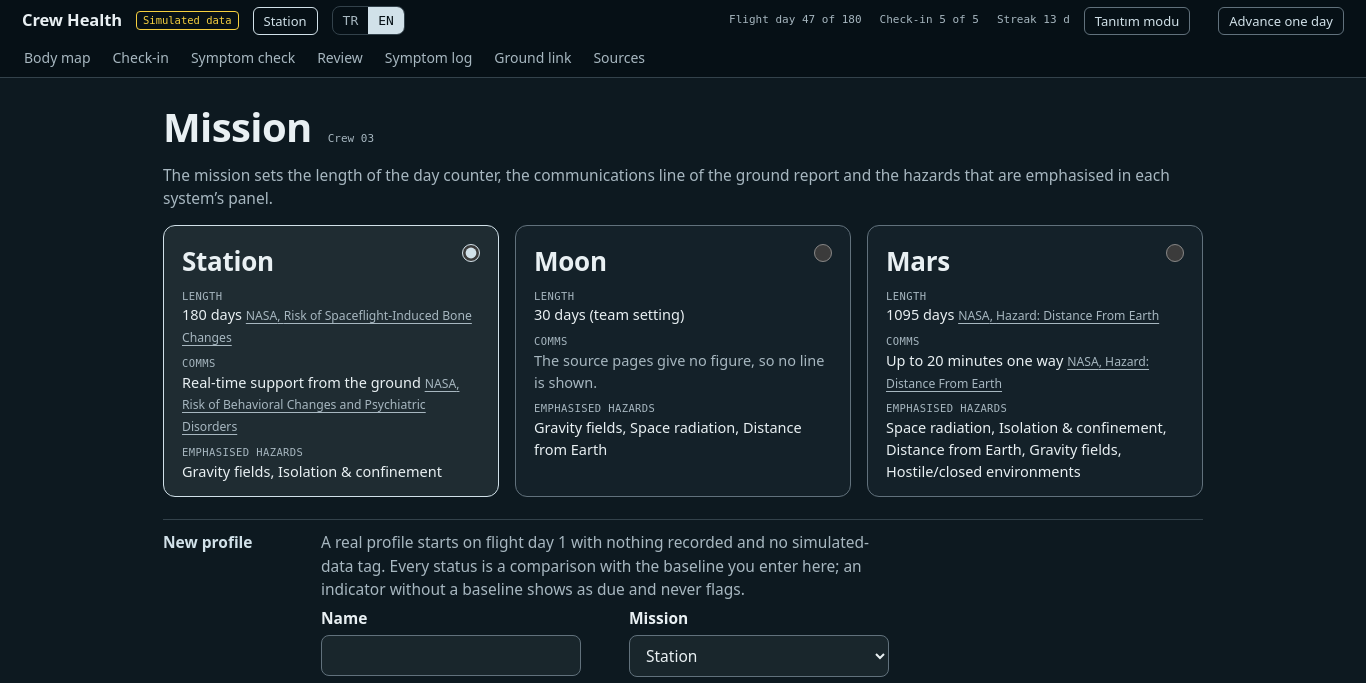
Test: a new profile › starts on day 1 with its baselines and without the simulated tag
Type "Ada" into the field labelled "Name" at (451, 656), box x1=321 y1=635 x2=581 y2=676
(page scrolled)
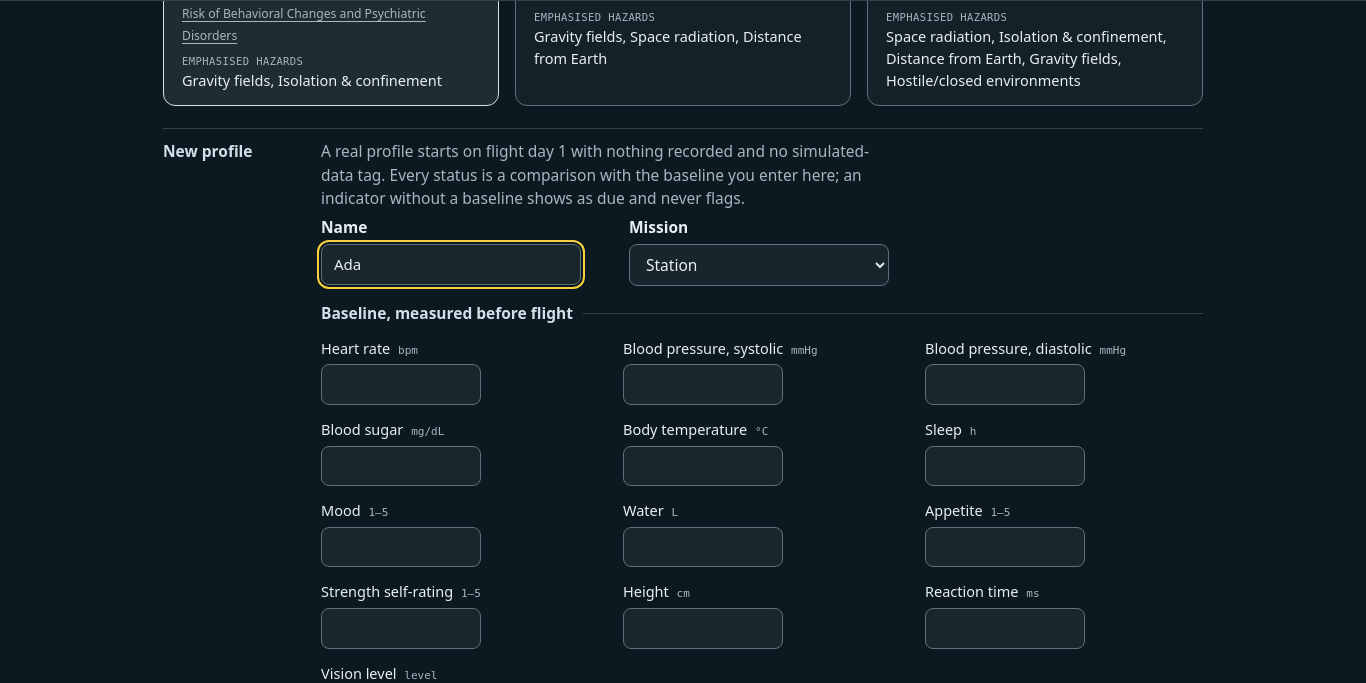
Type "58" into the field labelled "Heart rate bpm" at (401, 385), box x1=321 y1=364 x2=481 y2=405
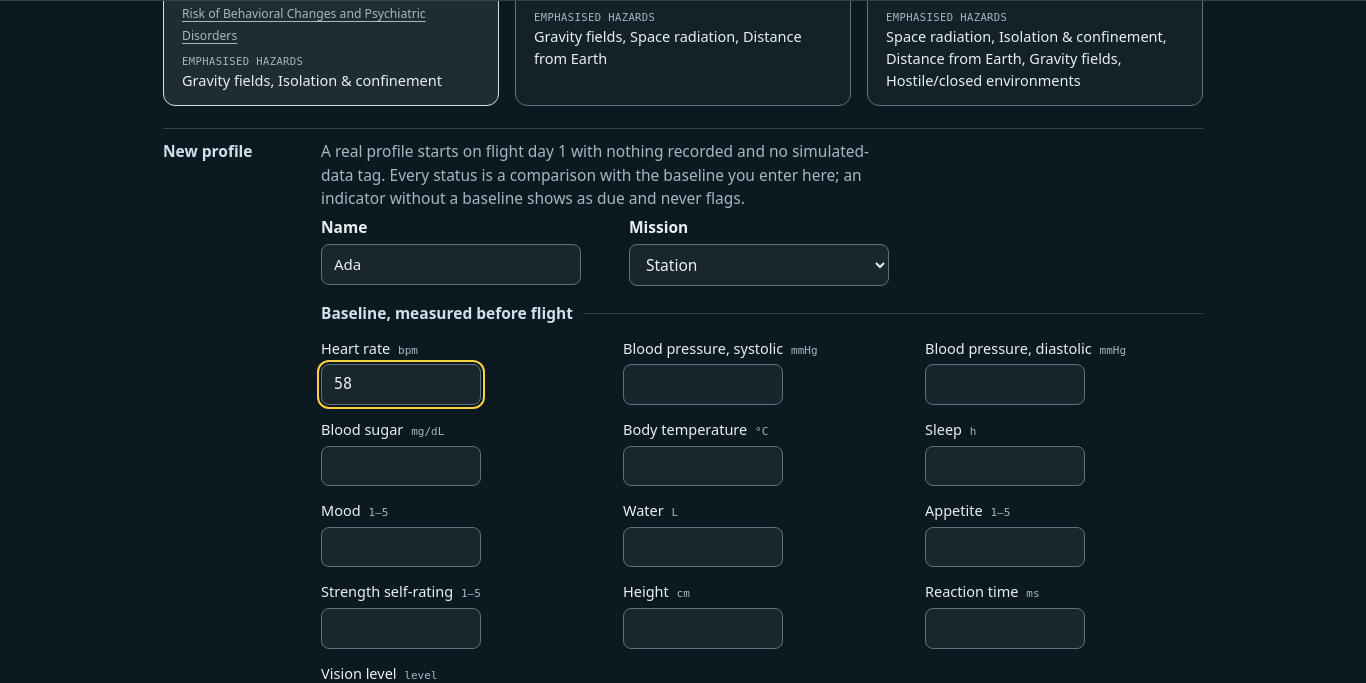
Type "36,6" into the field labelled "Body temperature °C" at (703, 466), box x1=623 y1=446 x2=783 y2=486
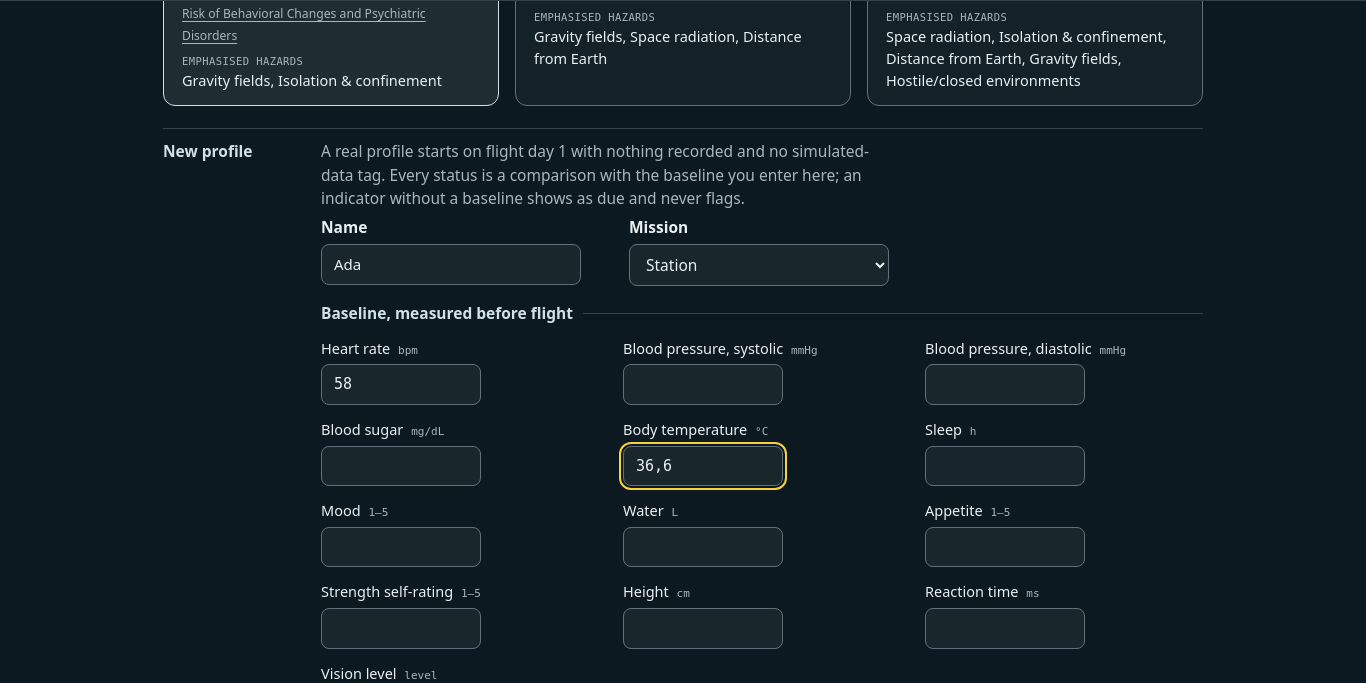
Type "4" into the field labelled "Mood 1–5" at (401, 547), box x1=321 y1=527 x2=481 y2=567
(page scrolled)
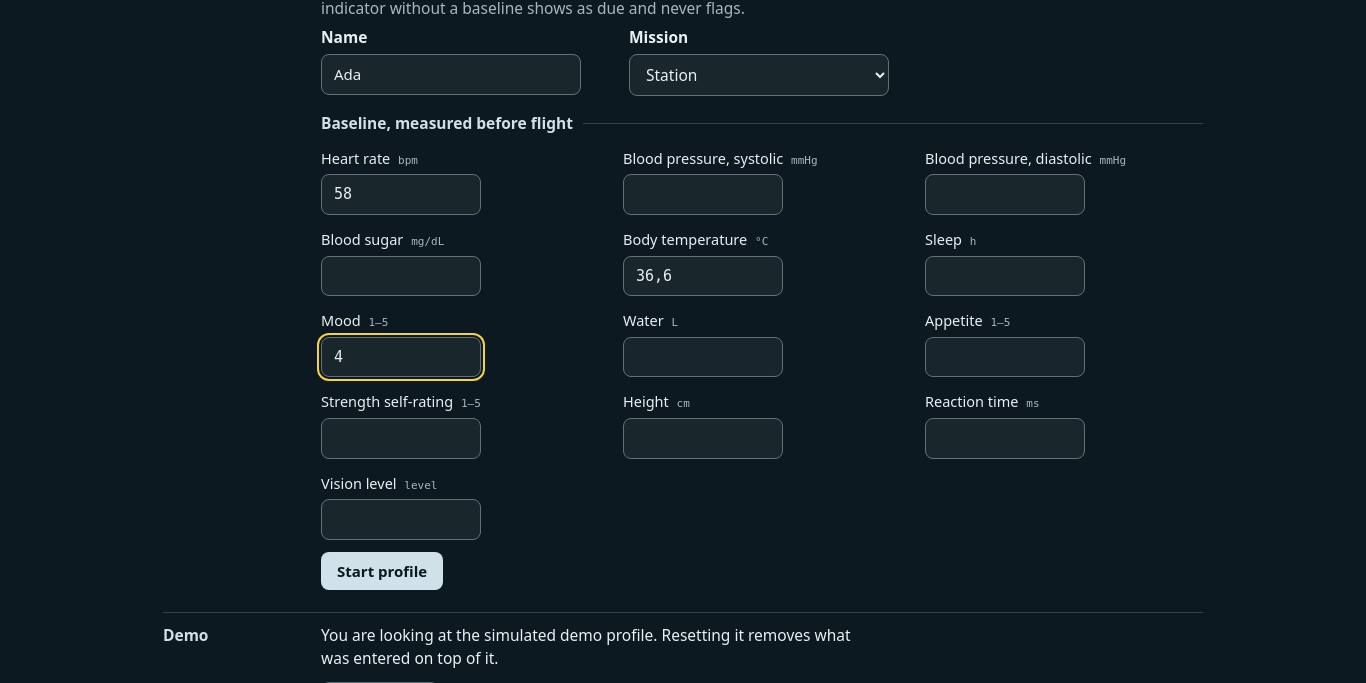
Click the button "Start profile" at (382, 571), box x1=321 y1=552 x2=443 y2=590
(page scrolled)
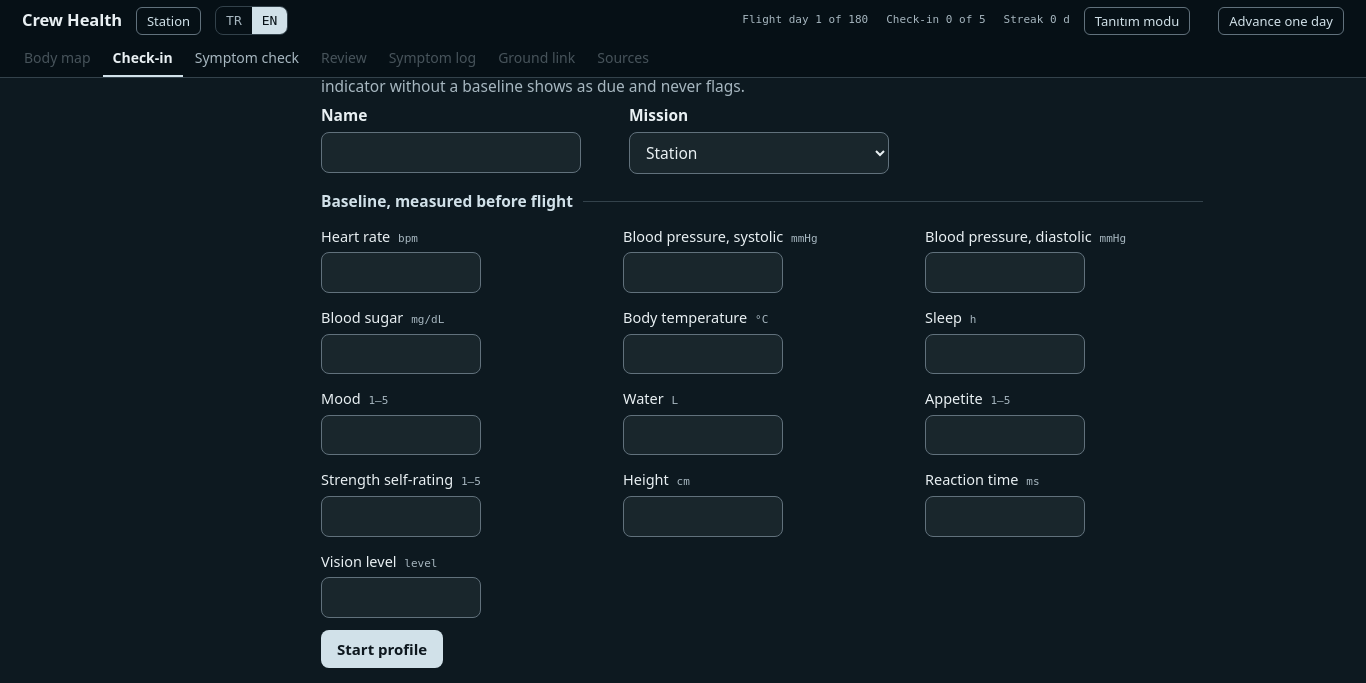
Result: the text "Flight day 1 of 180" is shown at x1=742 y1=12 x2=868 y2=29
